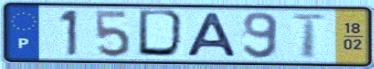1: (58, 8, 82, 58)
5: (93, 8, 134, 59)
9: (241, 11, 280, 61)
A: (182, 12, 240, 59)
D: (136, 8, 190, 61)
T: (289, 12, 330, 60)
